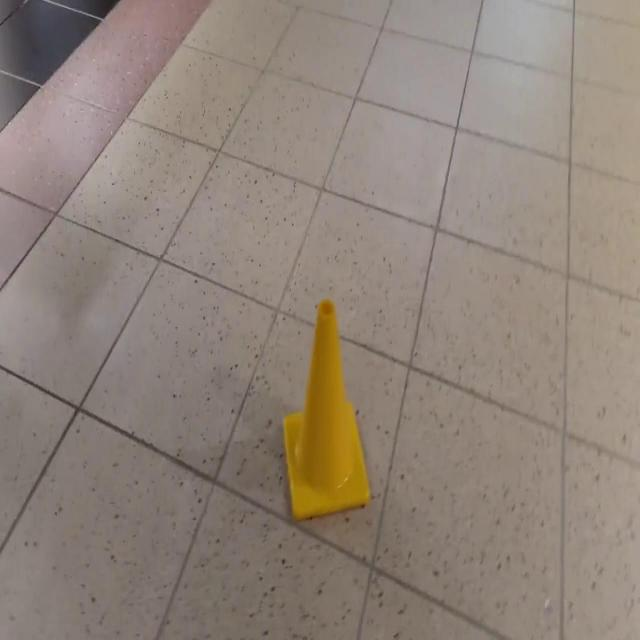frc_cone: (282, 296, 370, 519)
